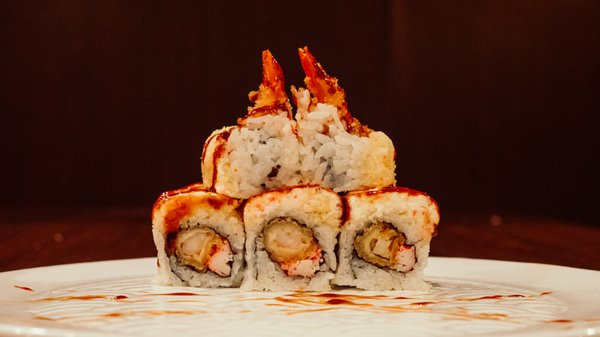sushi: (149, 46, 442, 292)
